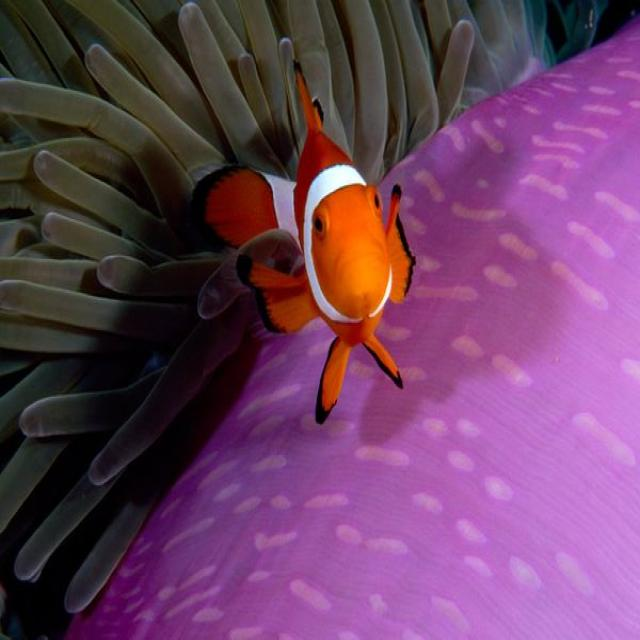ClownFish: (195, 62, 416, 424)
